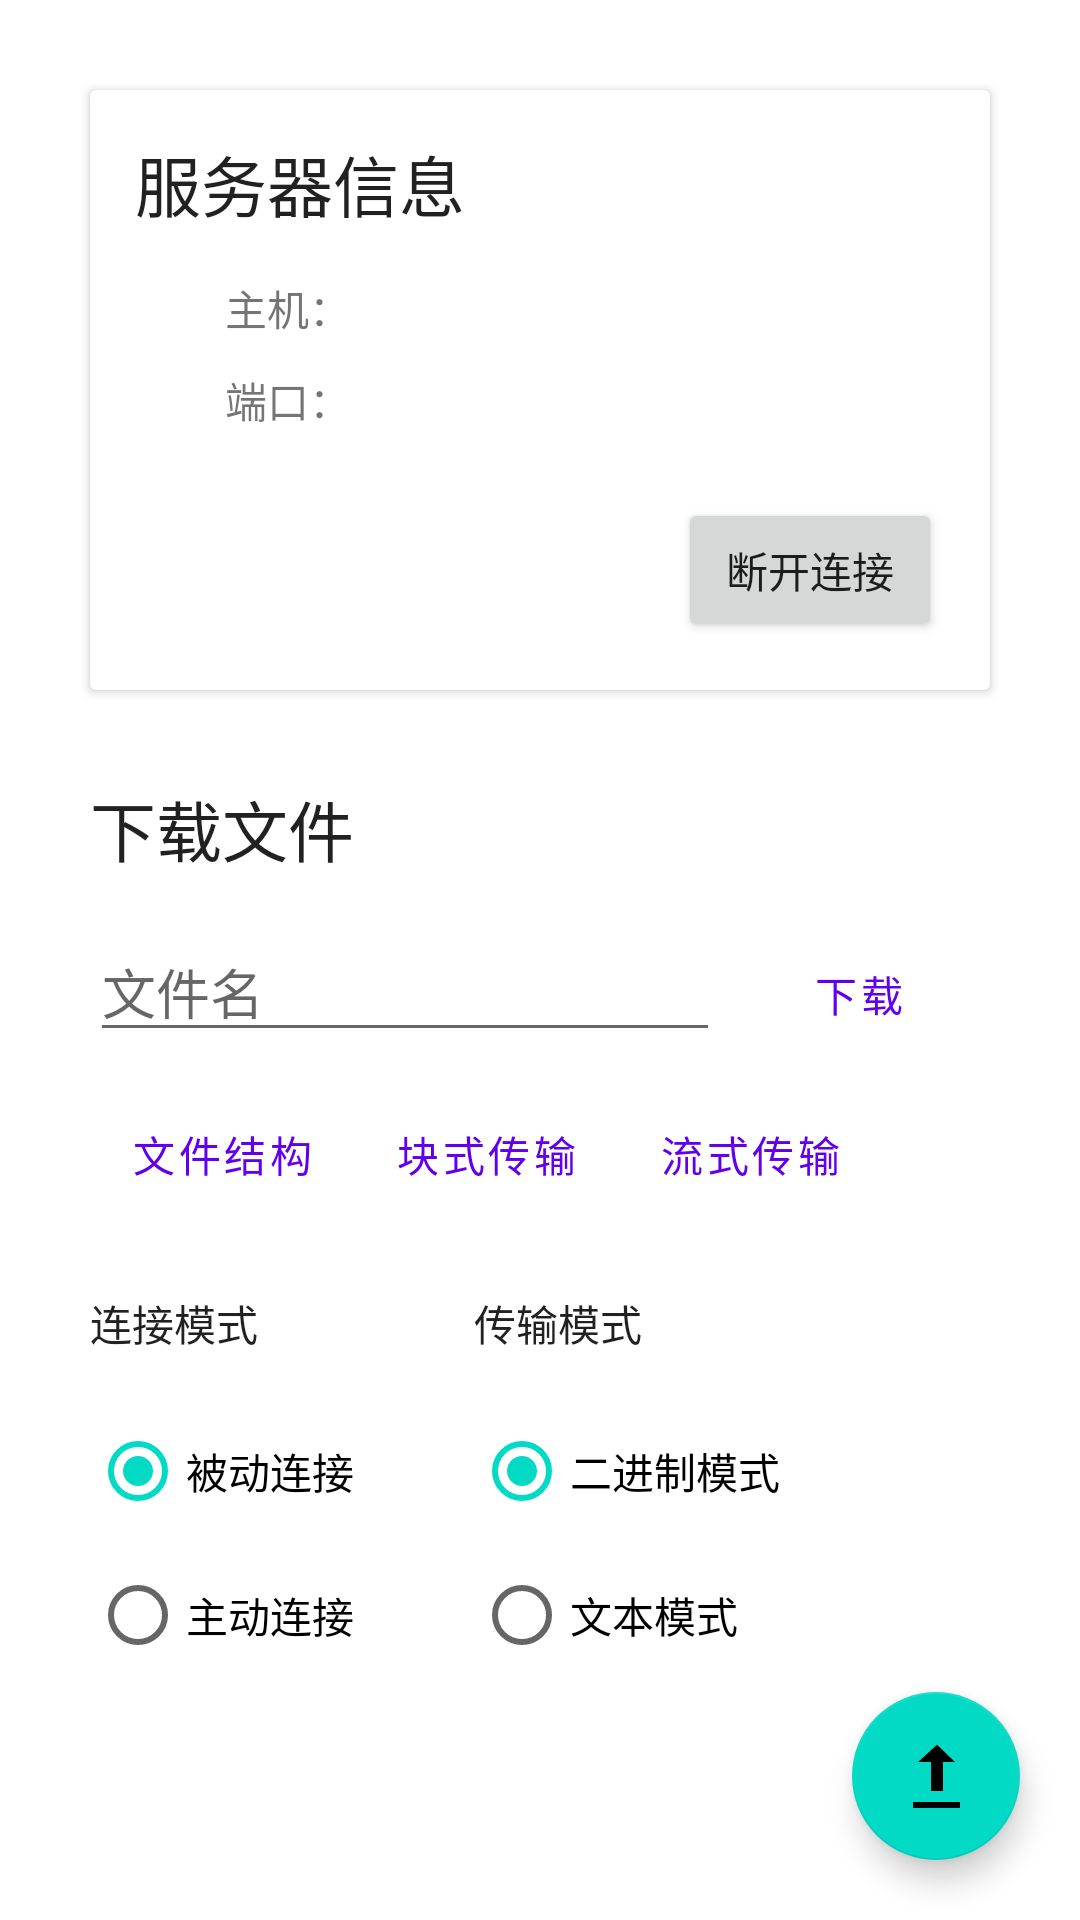

Point at icon controls on the screen. Image size 1080×1920, points as point (x, y).
上传: point (936, 1776)
